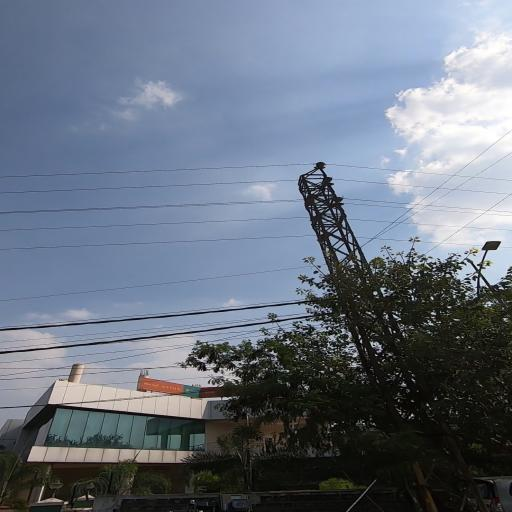Street_light: (478, 238, 503, 277)
